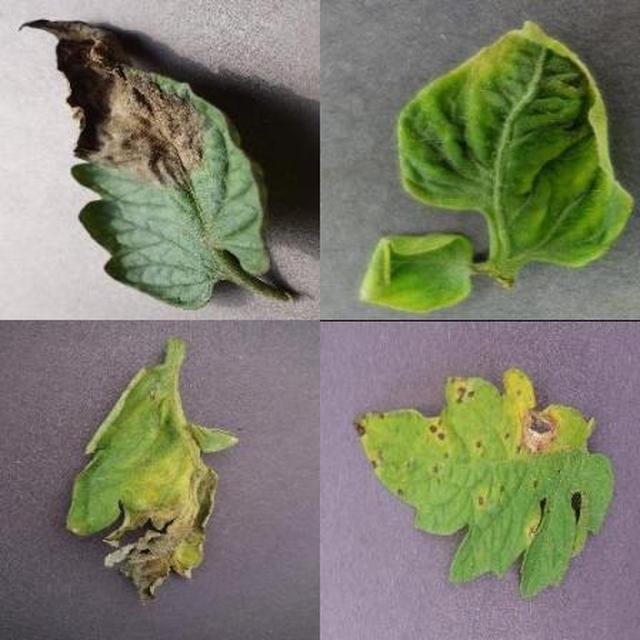Late Blight Leaf: (164, 111, 640, 640)
